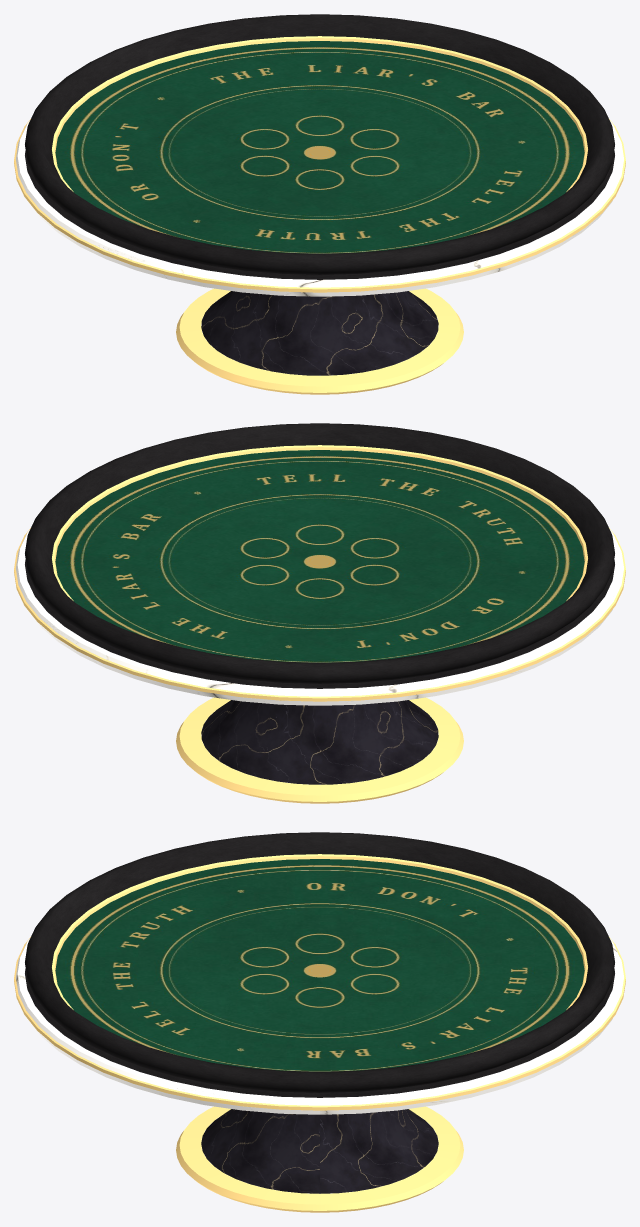
The model's file is lb5_table.glb.
3 views of the same model, one above another, from view 1: azimuth 30°, elevation 25°; view 2: azimuth 150°, elevation 25°; view 3: azimuth 270°, elevation 25° (orthographic).
Parts seen in each view (by area): view 1: lb5_table; view 2: lb5_table; view 3: lb5_table.
Part boxes in pixels (bbox=[...]): lb5_table: bbox=[14, 14, 625, 394]; lb5_table: bbox=[14, 423, 625, 803]; lb5_table: bbox=[14, 832, 625, 1212].
Size of the model in its own units: 3.4 by 1.23 by 3.4.
5 materials, 4 textured.
